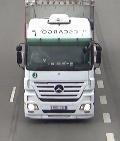Truck: (24, 0, 94, 120)
